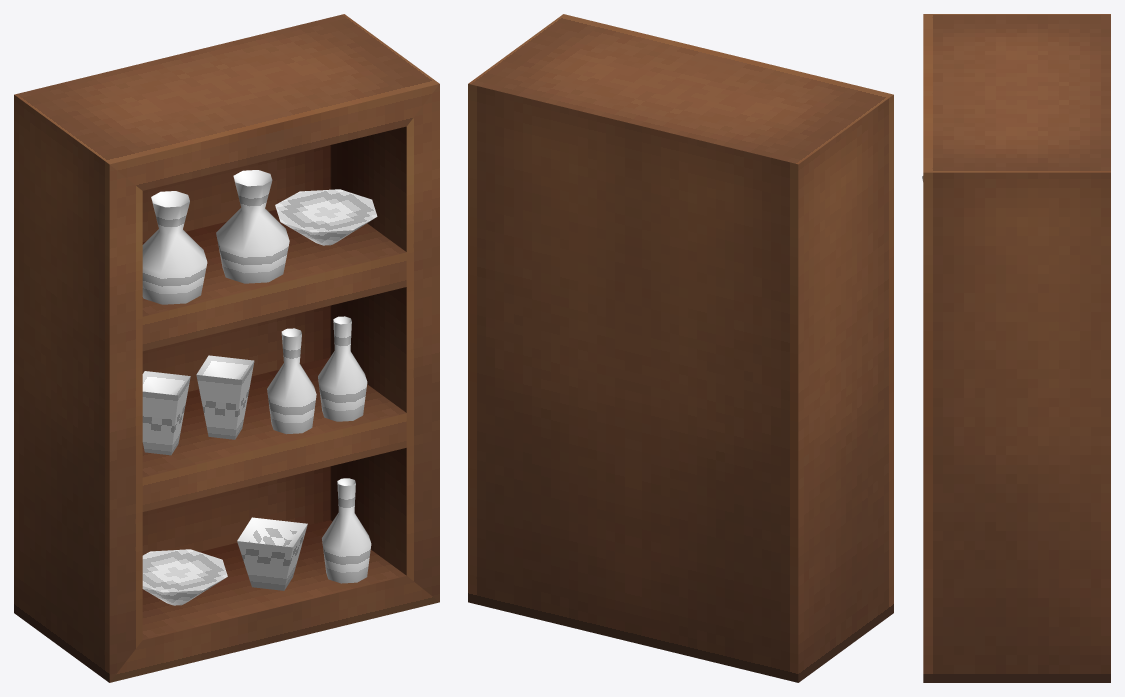
Rendered from Shelf.fbx.
3 renders of one model, left to right at view 1: azimuth 30°, elevation 25°; view 2: azimuth 150°, elevation 25°; view 3: azimuth 270°, elevation 25°, orthographic.
Parts seen in each view (by area): view 1: shelf; view 2: shelf; view 3: shelf.
Part boxes in pixels (box(x1,y1,x2,y2)): shelf: box(14, 14, 439, 682); shelf: box(468, 14, 893, 682); shelf: box(922, 14, 1110, 682).
Bounding box in the file's own units: 1 × 1.5 × 0.5031.
